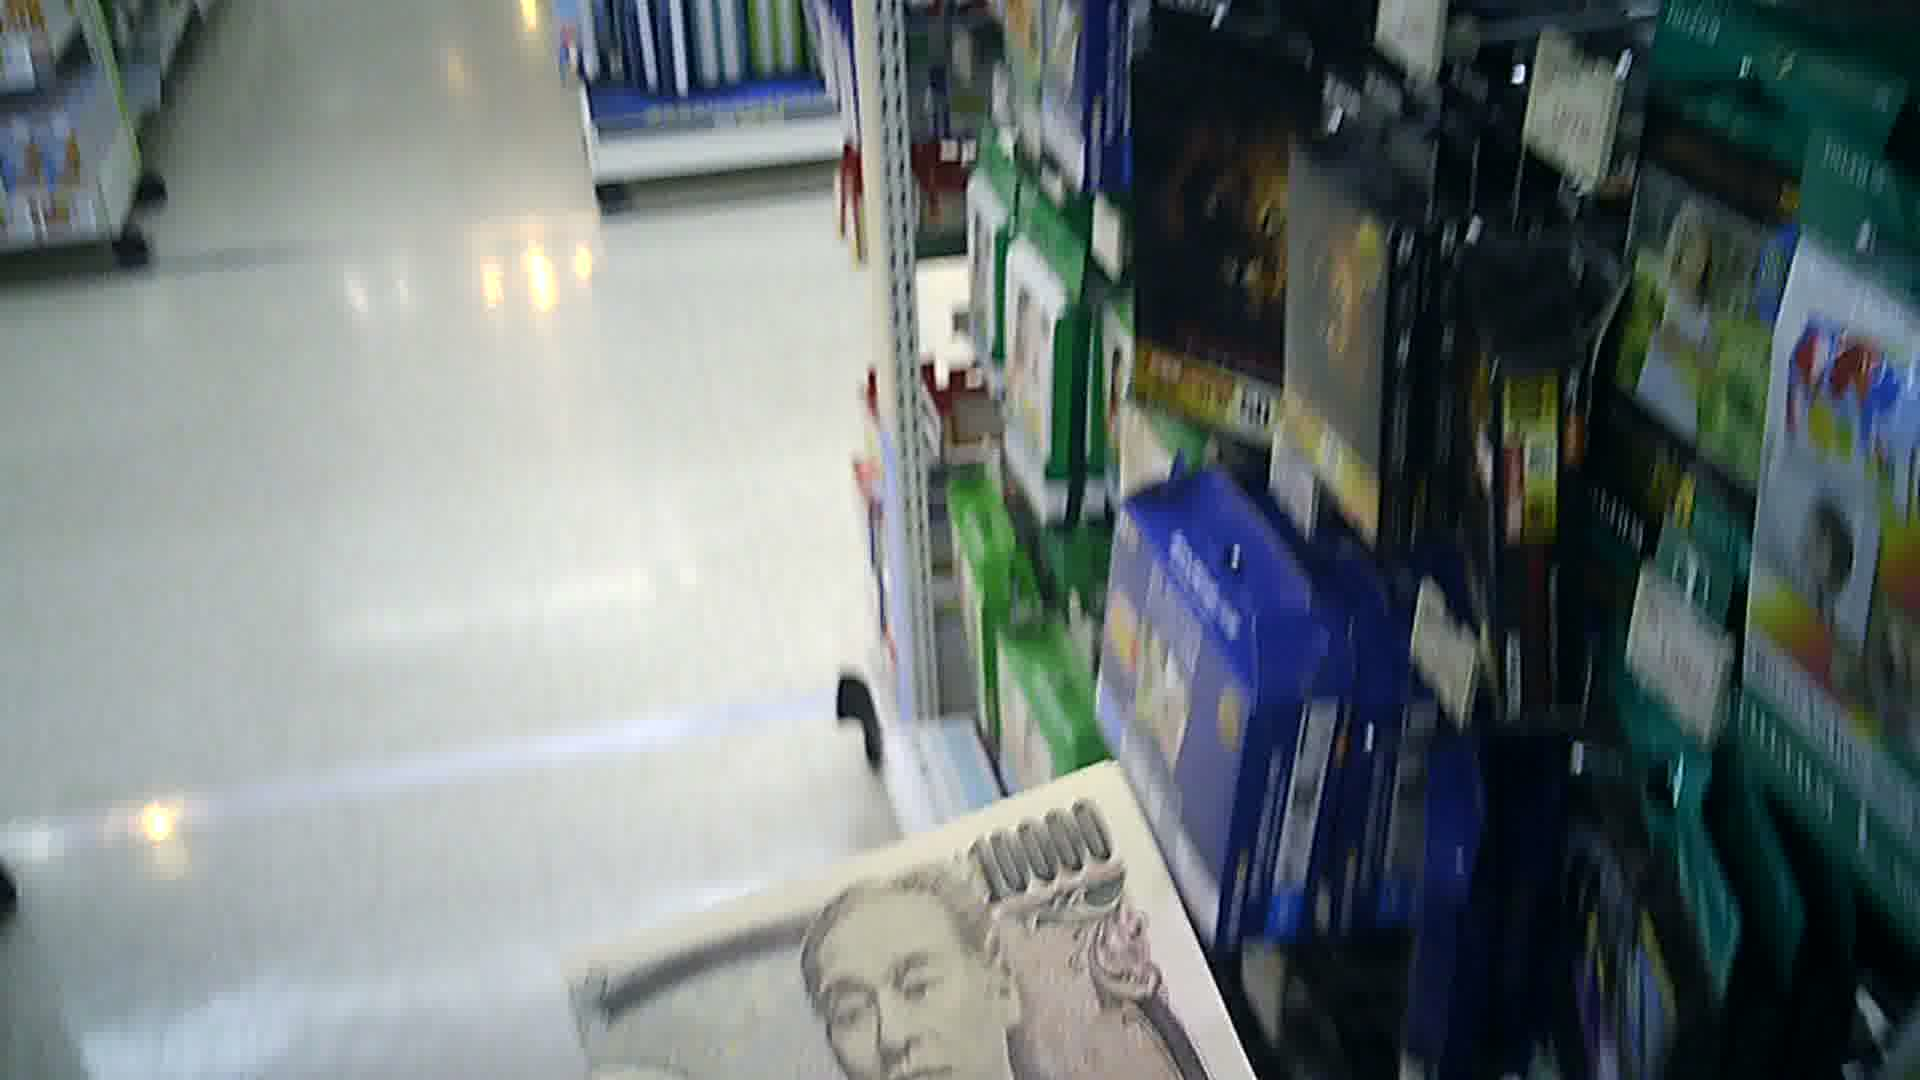10,000 Yen: (555, 766, 1244, 1079)
